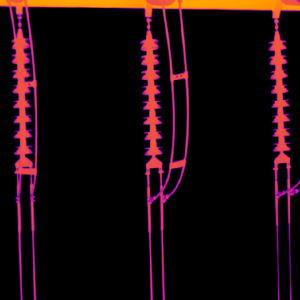insulator: (12, 25, 32, 168), (270, 30, 290, 165), (142, 29, 160, 165)
